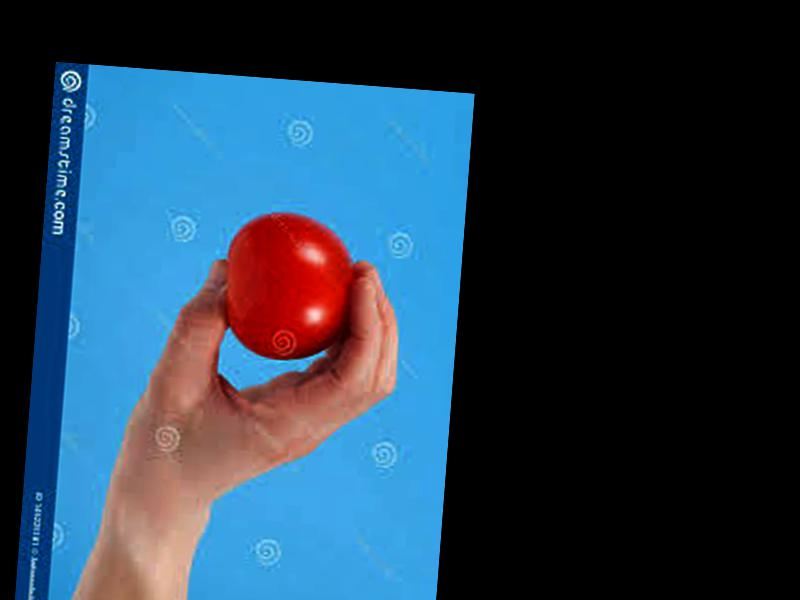Tomato: (220, 209, 361, 363)
